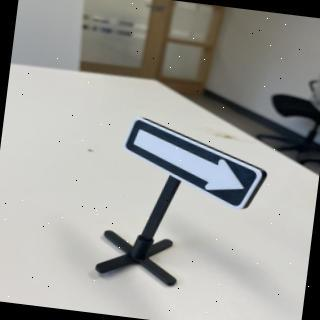sign_oneway_right: (118, 116, 274, 214)
